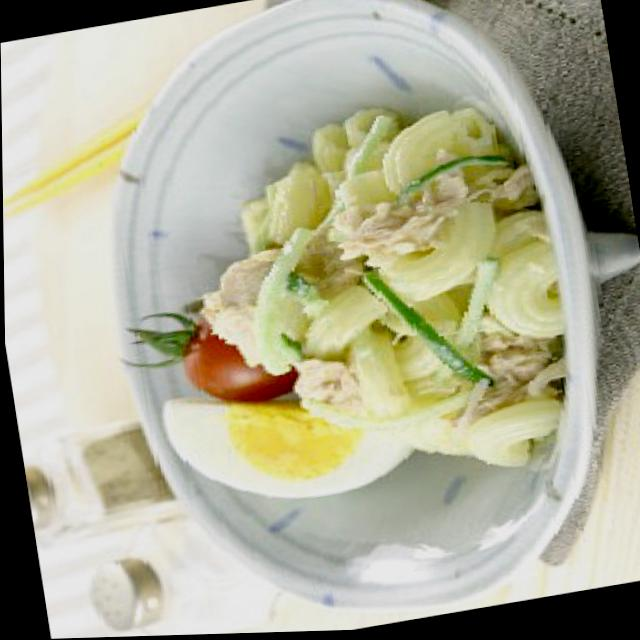蔬菜料理: (57, 0, 636, 639)
